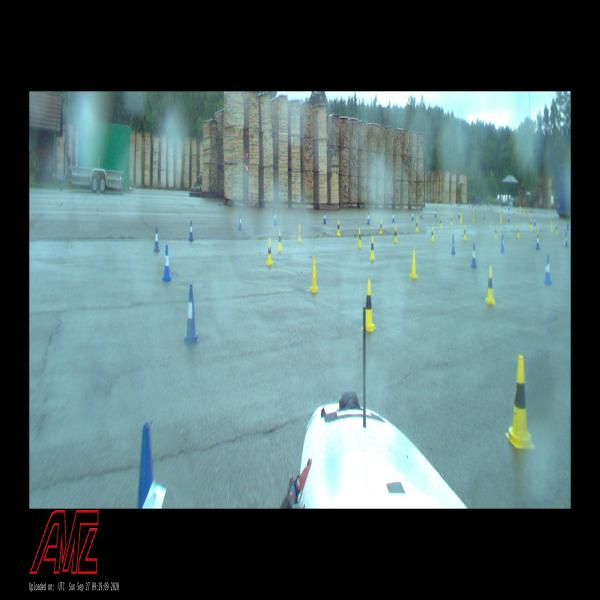blue_cone: (138, 423, 167, 509), (184, 285, 200, 342), (163, 245, 171, 281), (543, 254, 552, 285), (470, 243, 478, 268), (153, 226, 160, 252), (451, 234, 456, 255), (189, 221, 194, 241), (500, 234, 505, 253), (238, 214, 242, 230), (274, 210, 278, 225), (536, 234, 540, 249), (564, 232, 568, 247), (323, 212, 327, 224), (566, 220, 570, 231), (367, 212, 370, 224), (411, 210, 414, 221), (392, 212, 395, 222), (420, 209, 423, 219), (458, 210, 461, 218), (435, 208, 437, 218), (534, 216, 536, 226), (508, 214, 510, 222)
yellow_cone: (505, 356, 535, 448), (361, 279, 376, 331), (308, 256, 320, 292), (485, 266, 496, 305), (409, 249, 418, 279), (266, 237, 274, 265), (370, 236, 376, 260), (357, 228, 362, 248), (278, 229, 282, 251), (394, 226, 398, 242), (430, 226, 434, 242), (379, 219, 383, 234), (463, 225, 467, 240), (298, 224, 301, 242), (415, 219, 419, 232), (337, 220, 340, 236), (516, 225, 519, 238), (439, 216, 442, 229), (494, 226, 497, 239), (555, 223, 558, 235), (536, 224, 539, 236), (450, 214, 453, 225), (529, 218, 532, 229), (550, 222, 553, 232), (472, 212, 475, 222), (500, 214, 502, 225), (460, 214, 462, 223)
